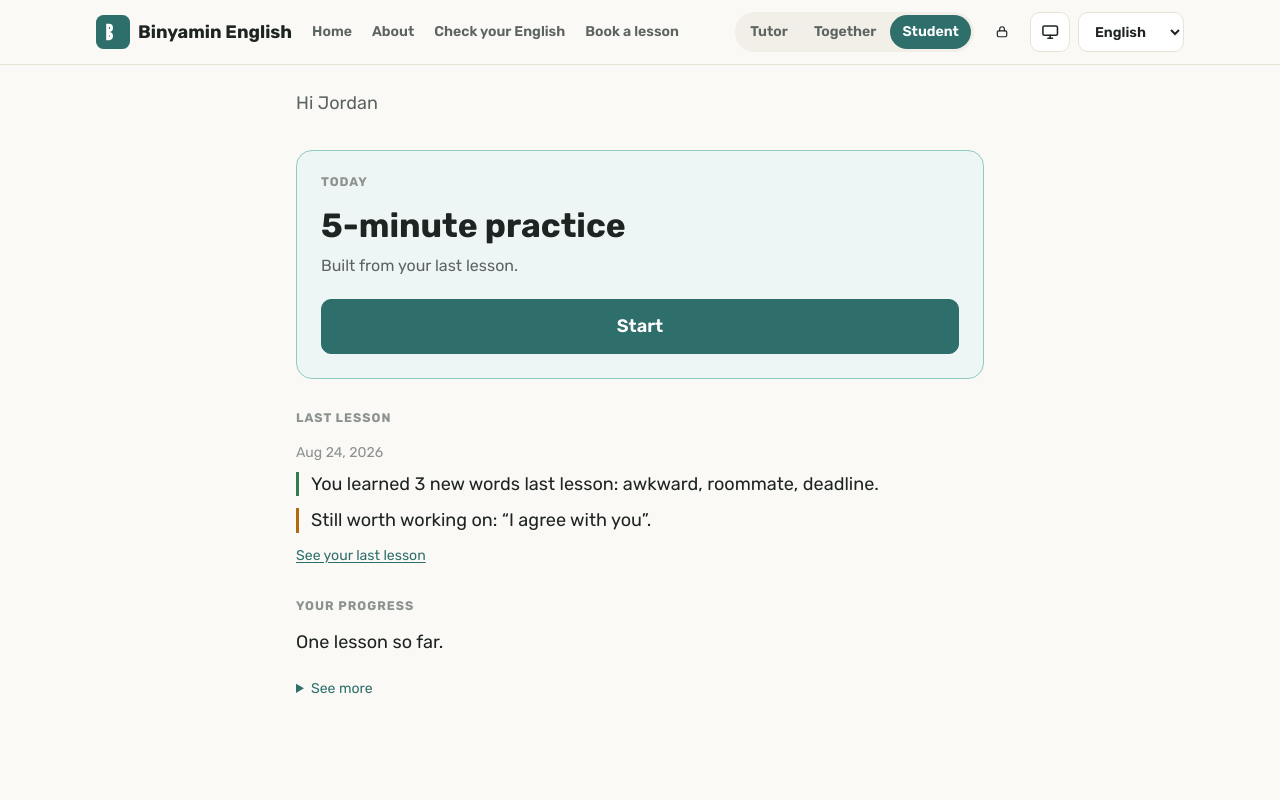
Test: leaving student mode costs the access phrase › a tap on “Tutor” does not switch by itself
Expected: the text "Hi Jordan" is shown, [296, 92, 378, 114]
What coordinates should you click on to do the following:
click the radio button labelled "Tutor"
I would click on:
 (769, 32)
Its box is [738, 15, 800, 49].
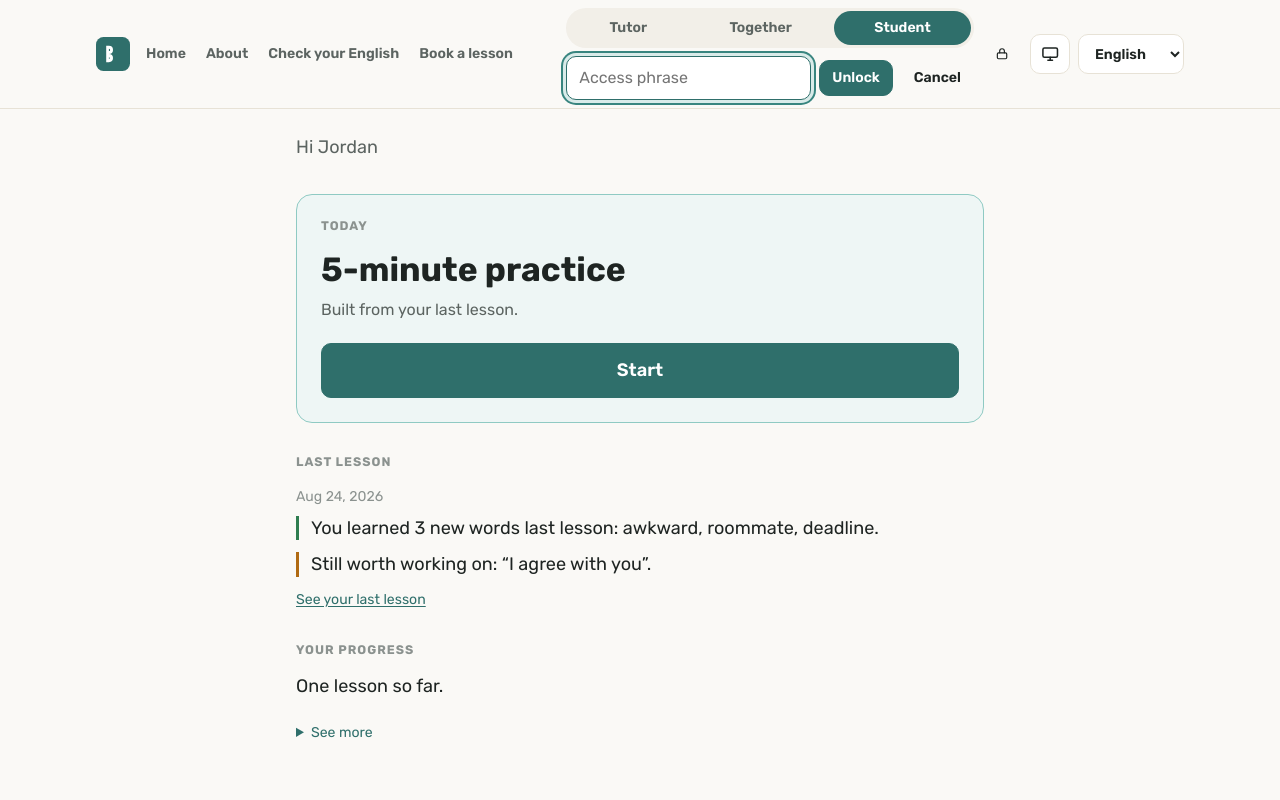
Expected: the password field named "access phrase to leave student mode" is shown, [566, 56, 811, 100]
